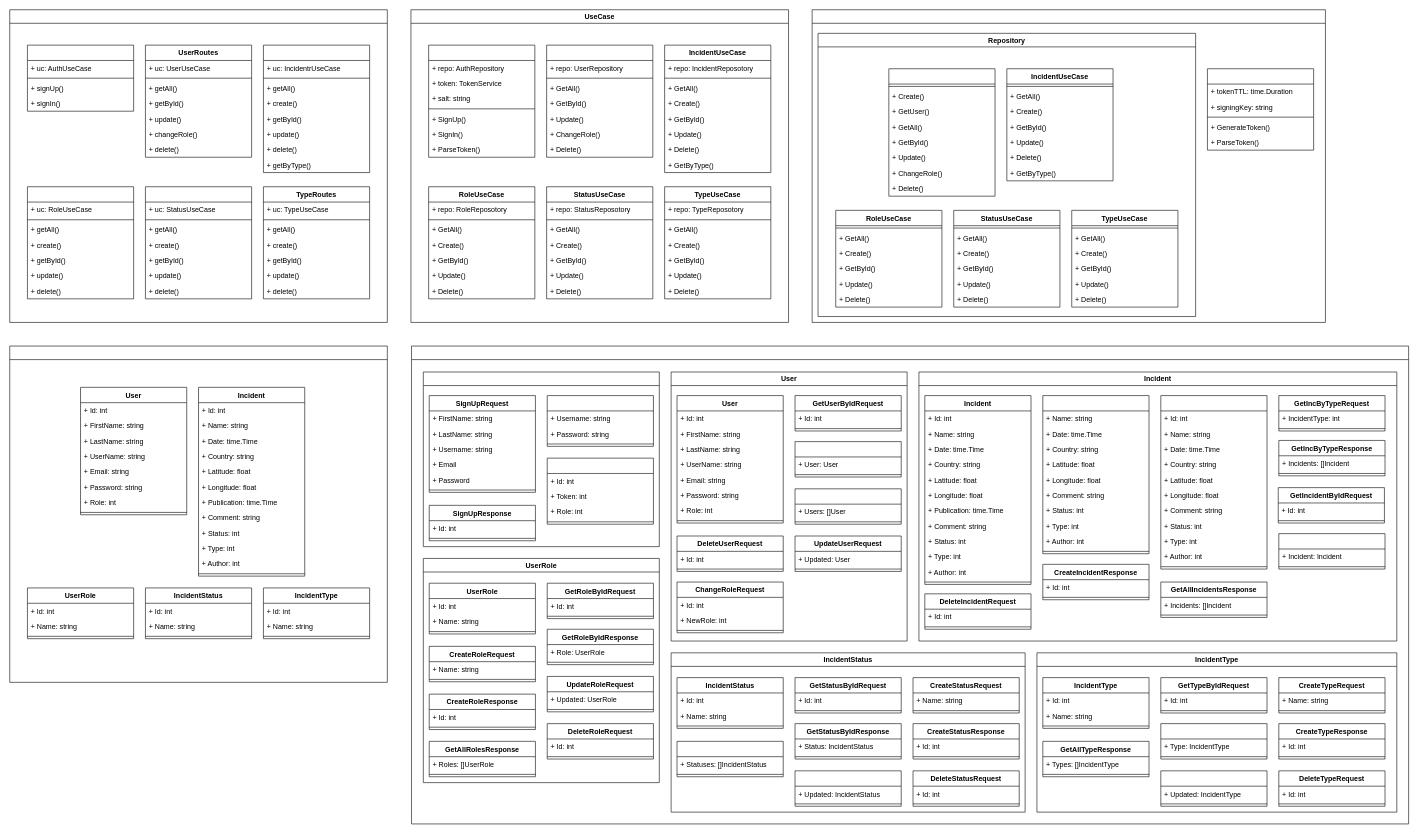
Image size: 1418x834. Some labels were removed from this diagram. Each missing label, with the box of its shape:
Auth: (423, 371, 659, 547)
AuthRoutes: (27, 45, 134, 111)
AuthUseCase: (428, 45, 535, 157)
Controller: (9, 9, 387, 322)
CreateIncidentRequest: (1042, 395, 1149, 554)
DTO: (411, 345, 1409, 824)
Entity: (9, 345, 387, 682)
GetAllStatusesResponse: (676, 741, 783, 777)
GetAllUsersResponse: (794, 488, 901, 524)
GetIncidentByIdResponse: (1278, 533, 1385, 569)
GetTypeByIdResponse: (1160, 723, 1267, 759)
GetUserByIdResponse: (794, 441, 901, 477)
IncidentRoutes: (263, 45, 370, 173)
Infrastructure: (812, 9, 1325, 322)
RoleRoutes: (27, 186, 134, 299)
SignInRequest: (547, 395, 653, 446)
SignInResponse: (547, 458, 653, 524)
StatusRoutes: (145, 186, 252, 299)
TokenService: (1207, 68, 1314, 150)
UpdateIncidentRequest: (1160, 395, 1267, 569)
UpdateStatusRequest: (794, 770, 901, 806)
UpdateTypeRequest: (1160, 770, 1267, 806)
UserRepository: (888, 68, 995, 196)
UserUseCase: (546, 45, 653, 157)
